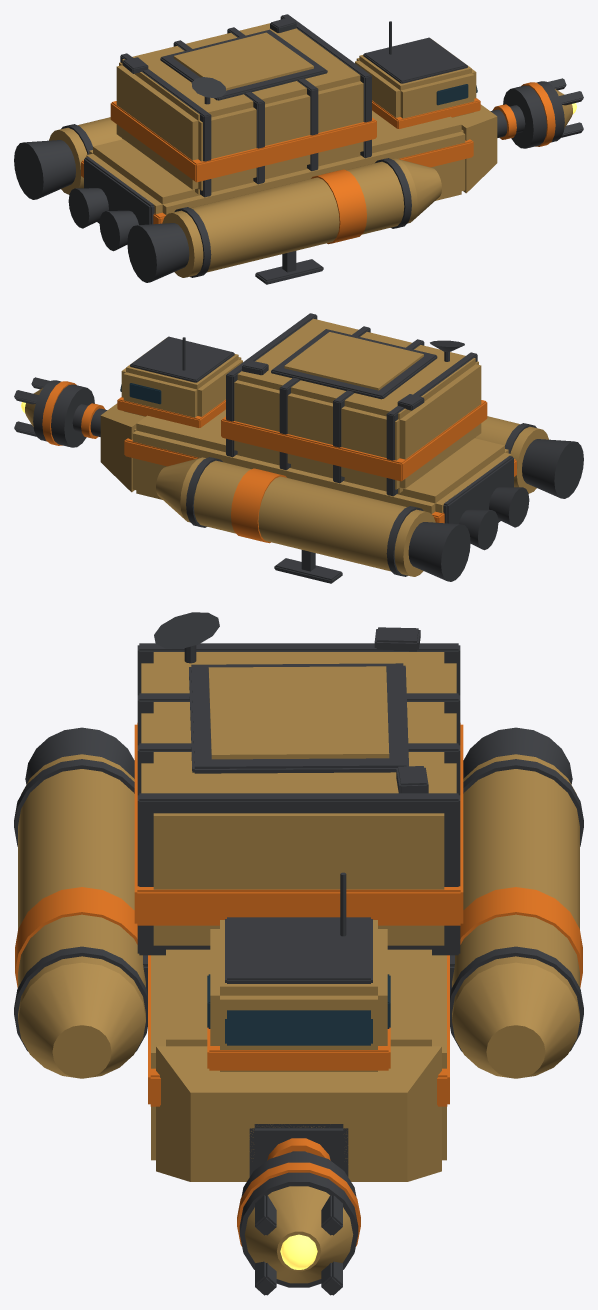
Rendered from miner.glb.
3 views of the same model, one above another, from view 1: azimuth 30°, elevation 25°; view 2: azimuth 150°, elevation 25°; view 3: azimuth 270°, elevation 25° (orthographic). The views are drawn at different scales.
Parts seen in each view (by area): view 1: miner_miner_hull, miner_miner_trim, miner_miner_stripe, miner_miner_glass; view 2: miner_miner_hull, miner_miner_trim, miner_miner_stripe, miner_miner_glass; view 3: miner_miner_hull, miner_miner_trim, miner_miner_stripe, miner_miner_glass, miner_miner_glow.
Boxes of the visible parts, x1,y1,x2,y2 form: miner_miner_hull: (49,23,572,277); miner_miner_trim: (14,14,583,284); miner_miner_stripe: (81,82,555,244); miner_miner_glass: (436,84,477,105); miner_miner_hull: (25,318,548,576); miner_miner_trim: (14,313,583,583); miner_miner_stripe: (42,381,516,543); miner_miner_glass: (120,383,161,404); miner_miner_hull: (18,652,579,1283); miner_miner_trim: (14,612,583,1295); miner_miner_stripe: (15,723,582,1246); miner_miner_glass: (207,974,390,1045); miner_miner_glow: (280,1234,317,1269).
Size of the model in its own units: 21.98 by 7.87 by 11.56.
